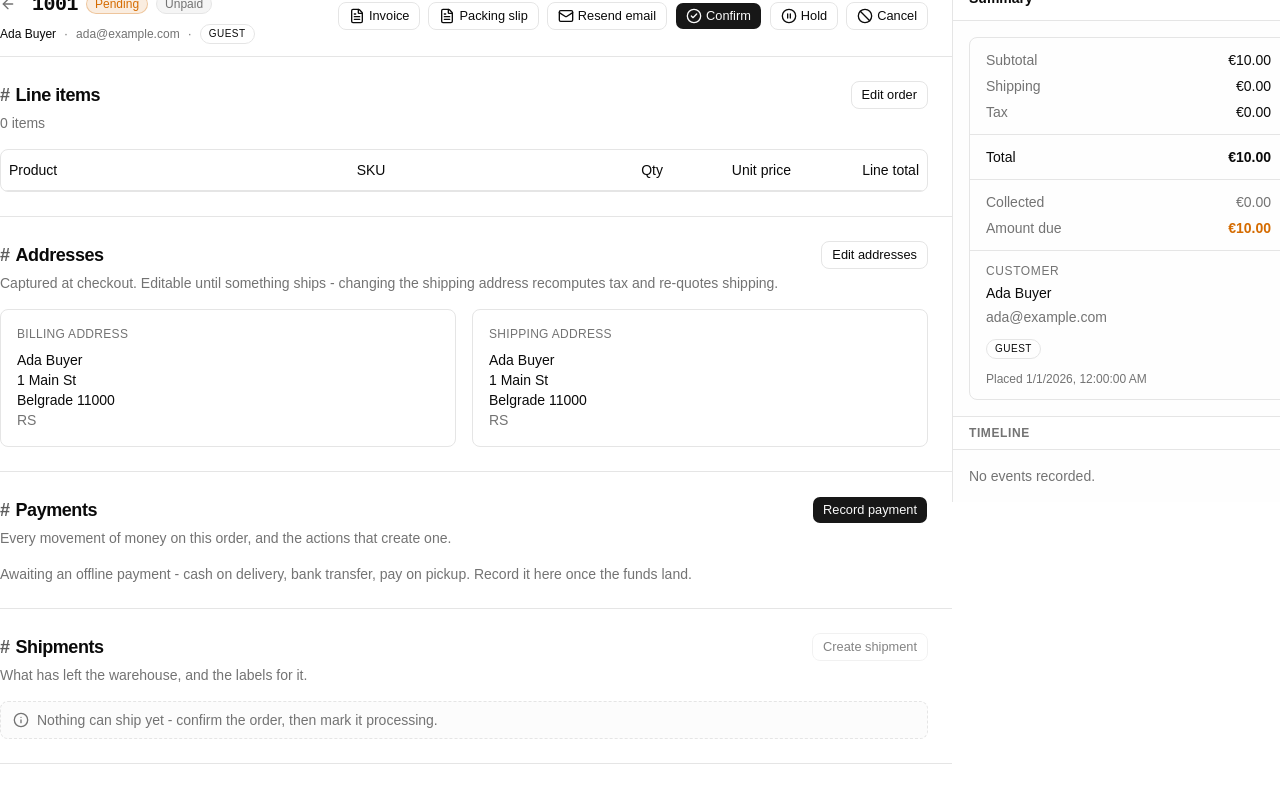
Test: OrderDetail cancel › keeps the dialog open and shows a refused cancel
This screenshot has width=1280, height=788.
Step 1. Click the button "Cancel" → click(887, 16), box [846,2,928,30]
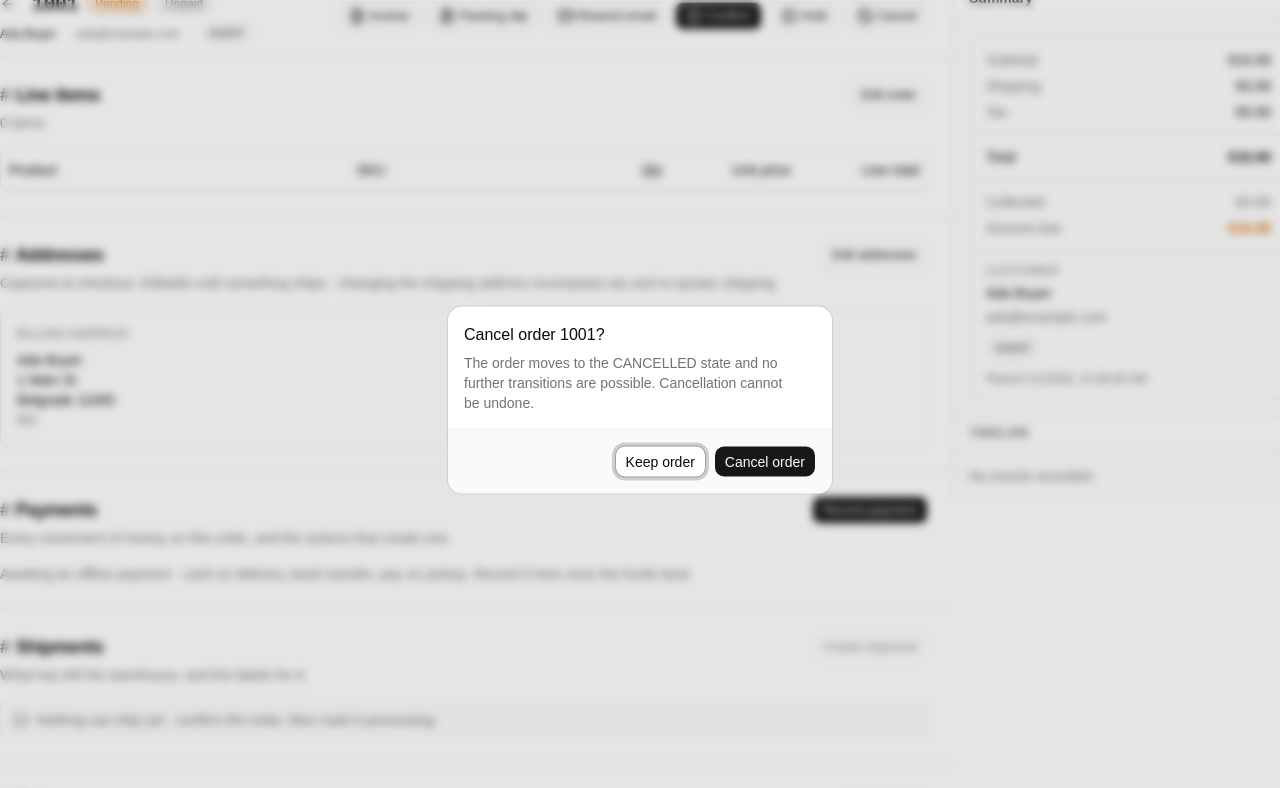
Step 2. Click the button "Cancel order" → click(765, 462), box [714,446,816,478]
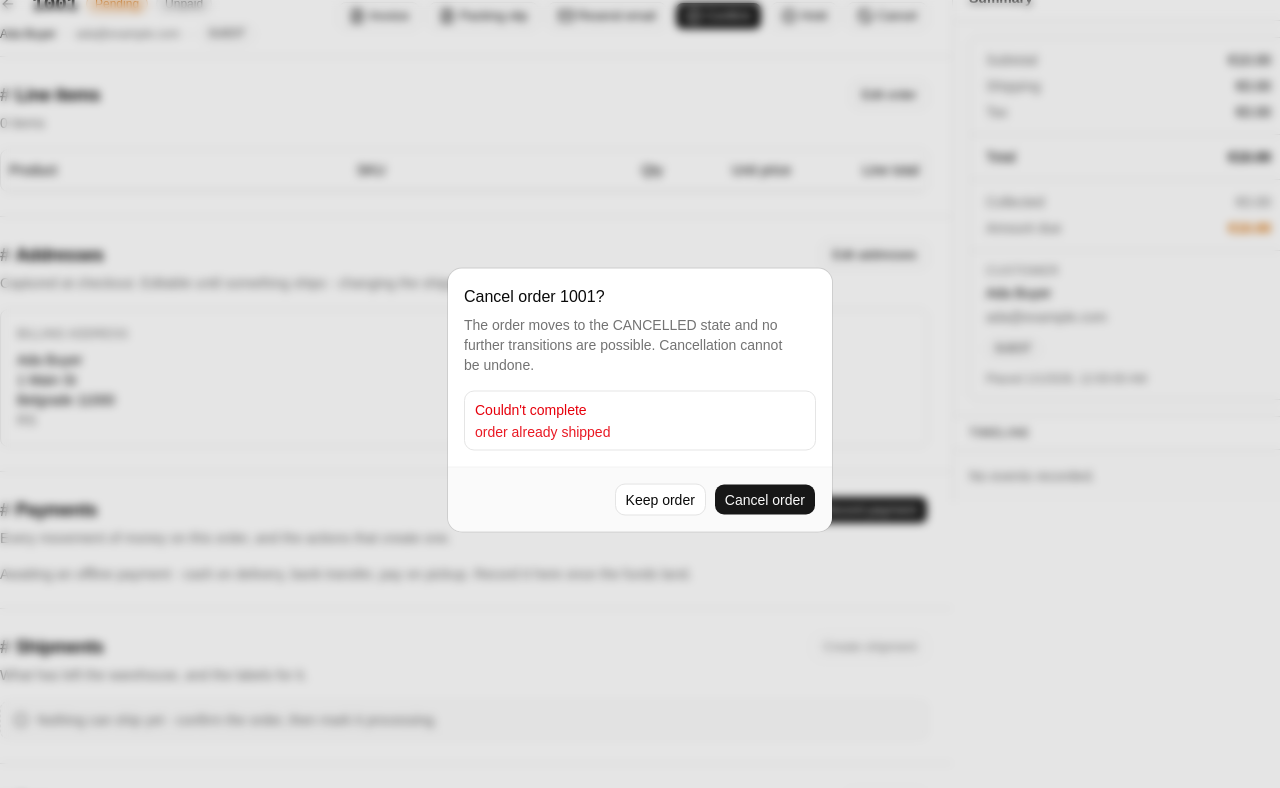
Result: the text "order already shipped" is shown at [475,424,610,440]
